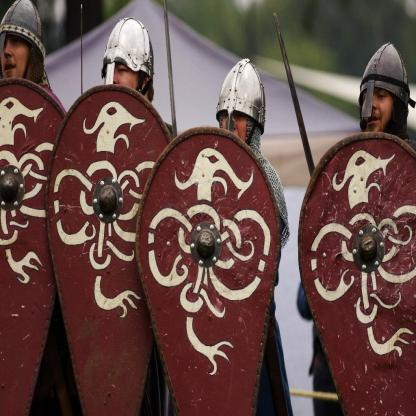Helmet: (358, 42, 408, 134)
